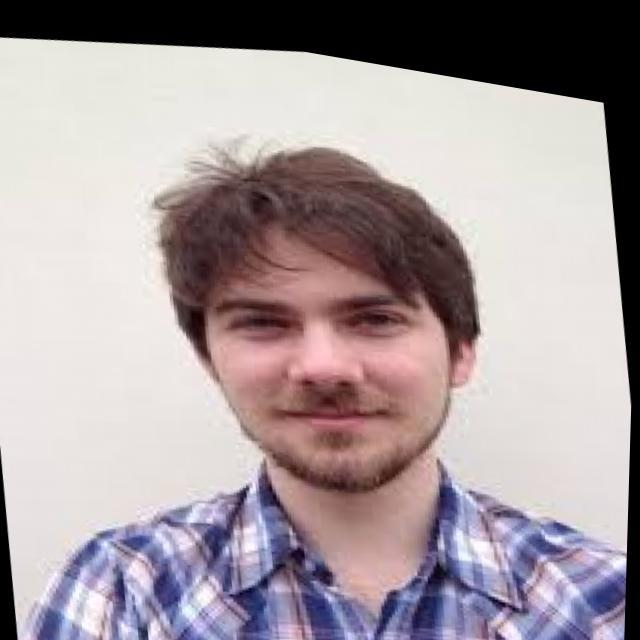Nonhelmet: (147, 138, 488, 493)
